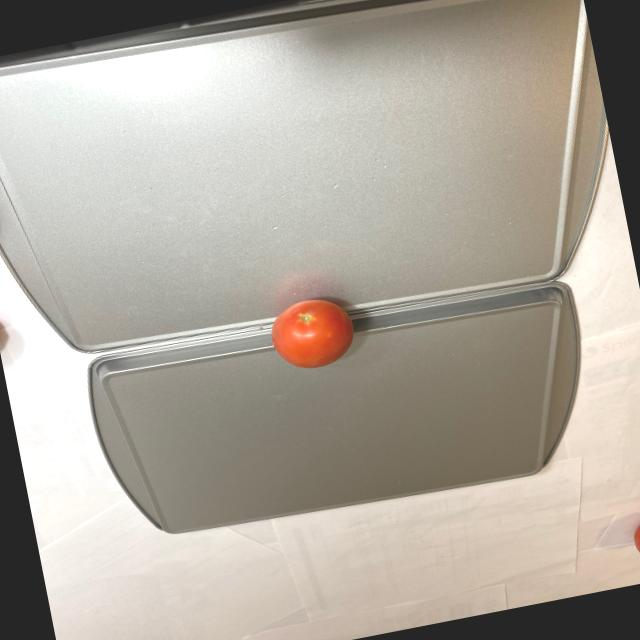tomato: (260, 290, 368, 380), (622, 501, 640, 574)
